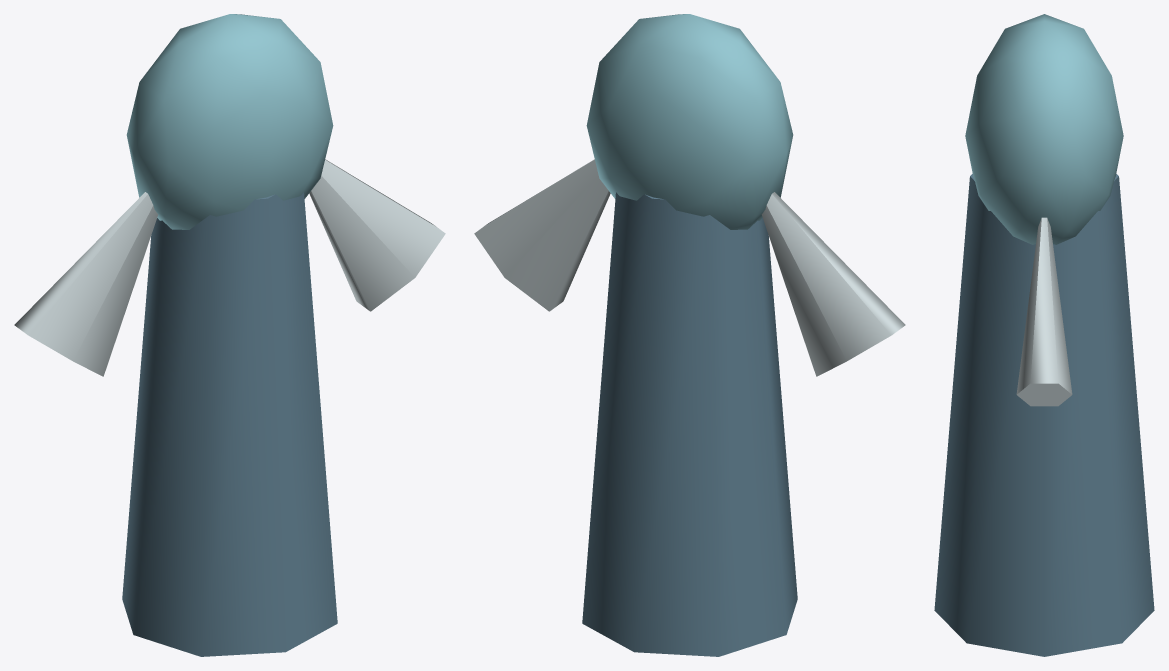
Rendered from path-marker.glb.
3 views of the same model, side by side, from view 1: azimuth 30°, elevation 25°; view 2: azimuth 150°, elevation 25°; view 3: azimuth 270°, elevation 25° (orthographic).
Visible parts, largest first — view 1: totem_body, totem_head, wing_-1, wing_1; view 2: totem_body, totem_head, wing_-1, wing_1; view 3: totem_body, totem_head, wing_1.
Part boxes in pixels (x1,y1,x2,y2): totem_body: (122,192,337,656); totem_head: (126,14,333,229); wing_-1: (14,192,158,376); wing_1: (309,159,445,311); totem_body: (582,192,797,656); totem_head: (586,14,793,229); wing_-1: (761,192,905,376); wing_1: (474,159,610,311); totem_body: (934,174,1154,656); totem_head: (965,14,1123,244); wing_1: (1016,217,1072,406).
Size of what is drawn, in the model's own units: 2.68 by 3.66 by 1.24.
